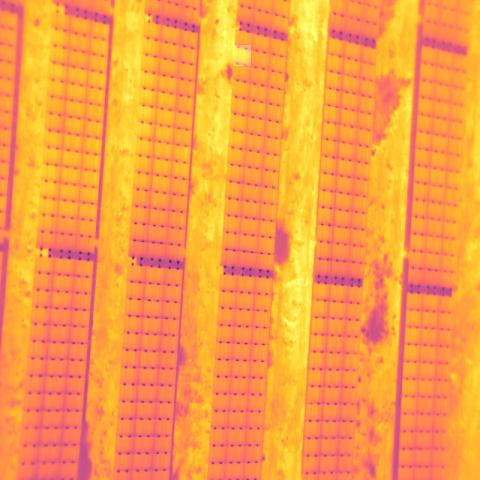fault: (234, 45, 252, 66)
